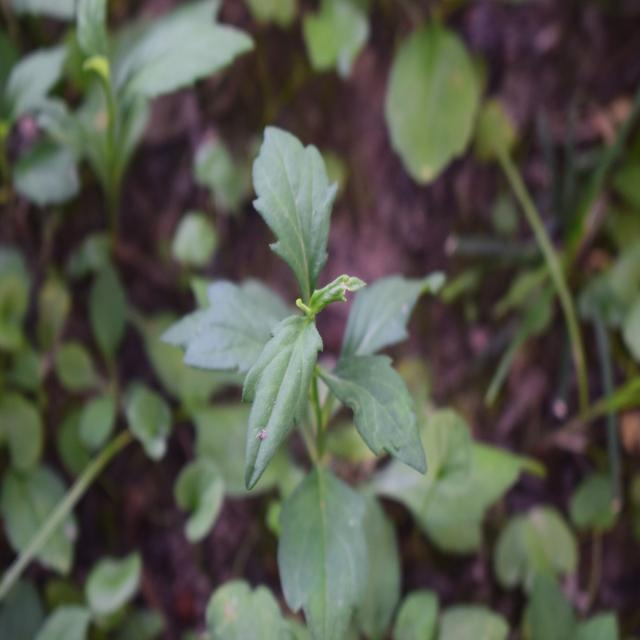Indian aster: (194, 114, 420, 584)
